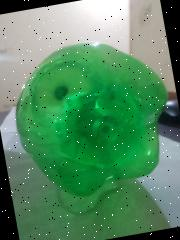plastic: (3, 27, 180, 207)
